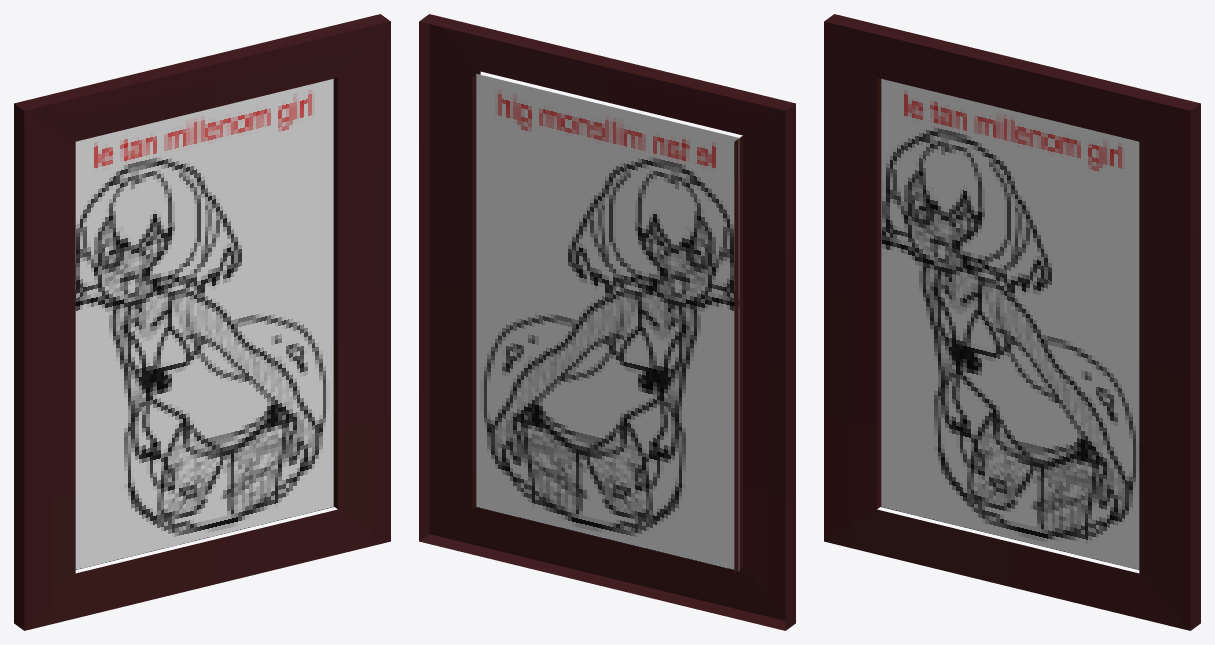
File: letanmillenomgirl.glb
3 renders of one model, left to right at view 1: azimuth 30°, elevation 25°; view 2: azimuth 150°, elevation 25°; view 3: azimuth 330°, elevation 25°, orthographic.
Visible parts, largest first — view 1: image, frame; view 2: image, frame; view 3: image, frame.
Boxes of the visible parts, box(x1,y1,x2,y2) form: image: box(75, 79, 333, 569); frame: box(14, 14, 390, 630); image: box(475, 73, 739, 571); frame: box(419, 14, 795, 630); image: box(881, 79, 1139, 569); frame: box(824, 14, 1200, 630).
Size of the model in its own units: 3.59 by 4.87 by 0.1739.
Materials: 1 (1 with a texture image).
